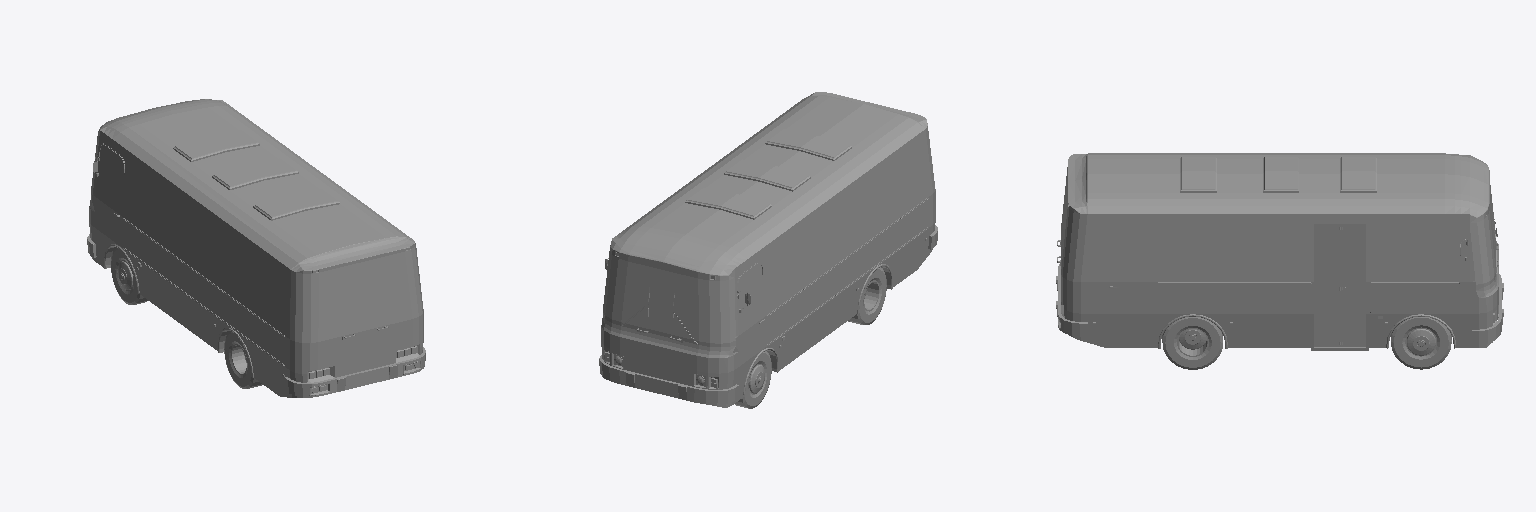
The model's file is paz3205.obj.
The picture shows the model from 3 angles: view 1: azimuth 30°, elevation 25°; view 2: azimuth 150°, elevation 25°; view 3: azimuth 270°, elevation 25°; orthographic projection.
Bounding box in the file's own units: 2.66 × 2.95 × 7.06.